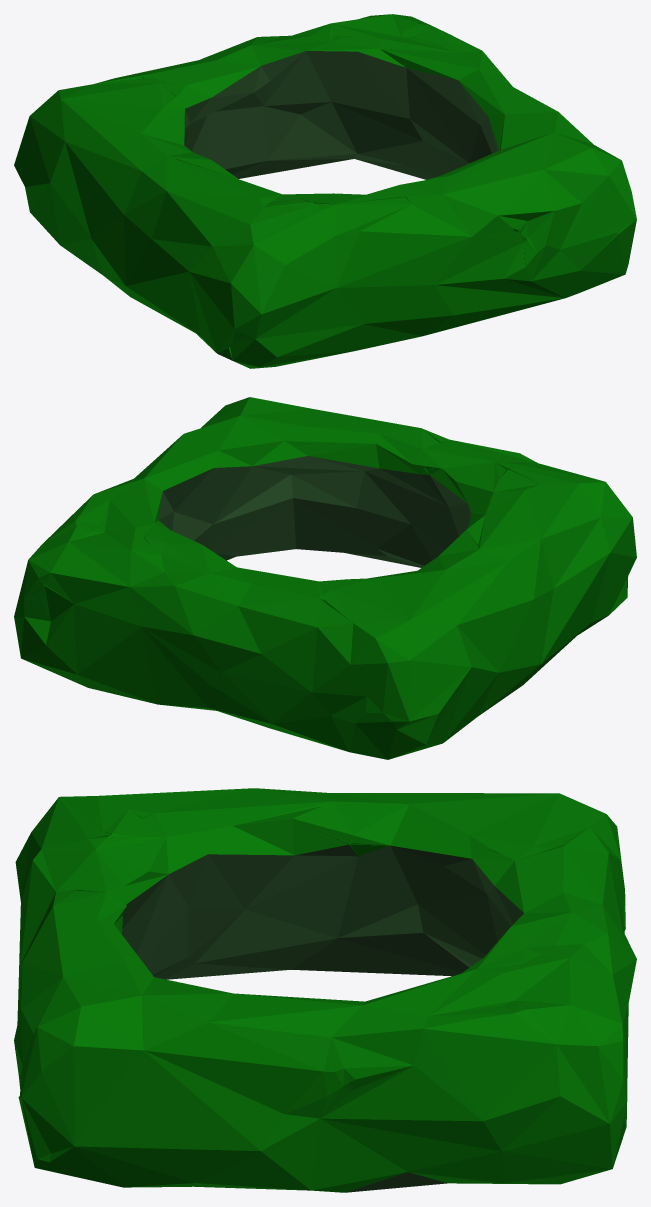
The model's file is Outer Hills.fbx.
3 views of the same model, one above another, from view 1: azimuth 30°, elevation 25°; view 2: azimuth 150°, elevation 25°; view 3: azimuth 270°, elevation 25° (orthographic). The views are drawn at different scales.
Parts seen in each view (by area): view 1: Cube.001; view 2: Cube.001; view 3: Cube.001.
Part boxes in pixels (bbox=[...]): Cube.001: bbox=[14, 14, 636, 368]; Cube.001: bbox=[14, 397, 636, 759]; Cube.001: bbox=[14, 788, 636, 1192].
Bounding box in the file's own units: 13315 × 4627 × 13275.
